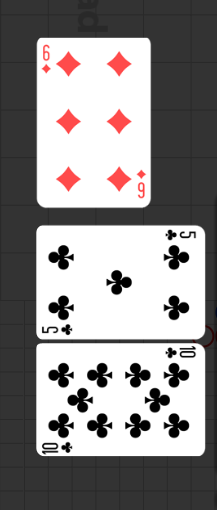10C: (163, 346, 197, 361)
5C: (163, 228, 197, 243)
6D: (41, 43, 52, 75)
